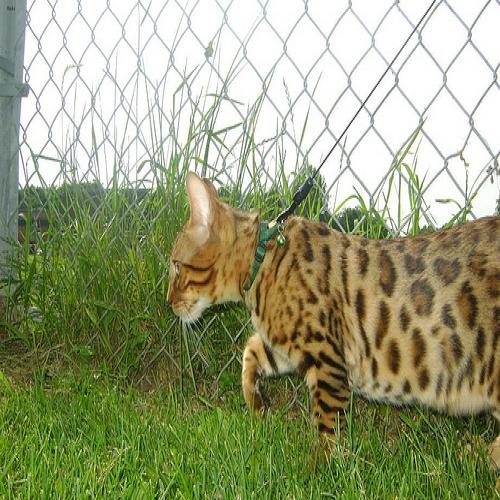cat-face: (164, 166, 236, 324)
